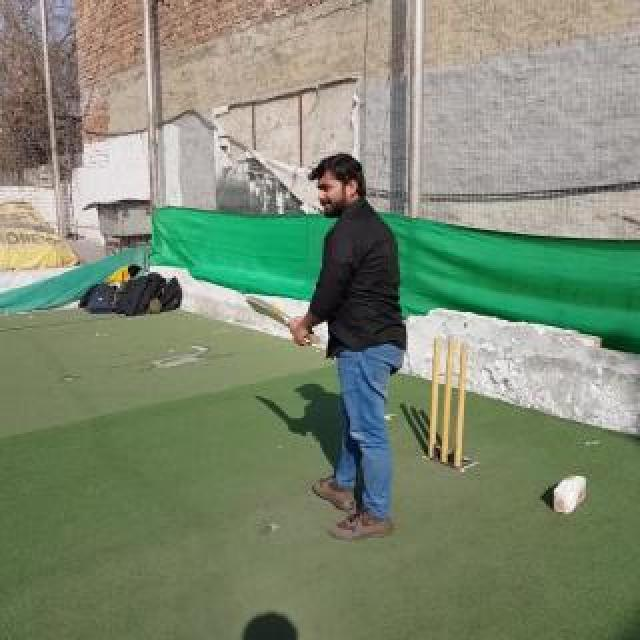bat: (245, 295, 321, 345)
